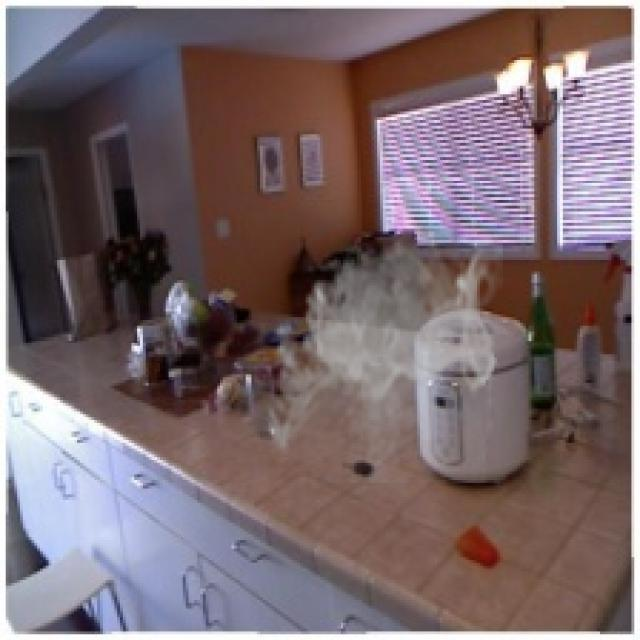Smoke: (260, 228, 503, 483)
